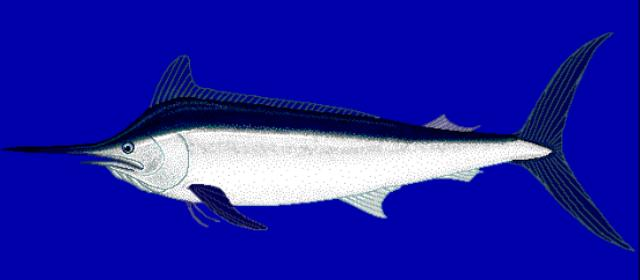Mulut: (2, 121, 154, 195)
Sirip Anal: (422, 106, 492, 194)
Sirip Dada: (182, 173, 276, 245)
Sirip Ekor: (506, 26, 640, 258)
Sirip Perut: (333, 179, 413, 226)
Sirip Punggung: (148, 52, 400, 132)
